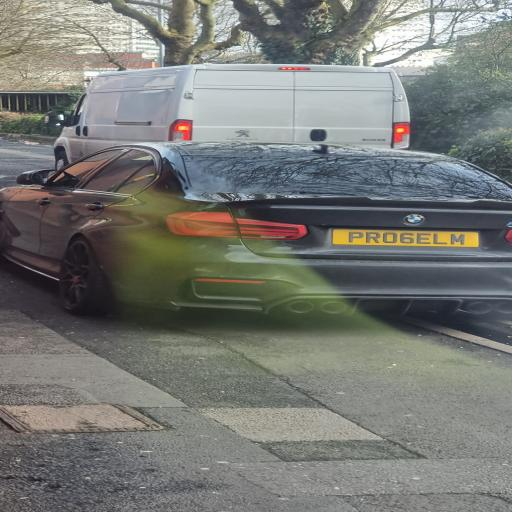numberplates: (333, 229, 479, 247)
